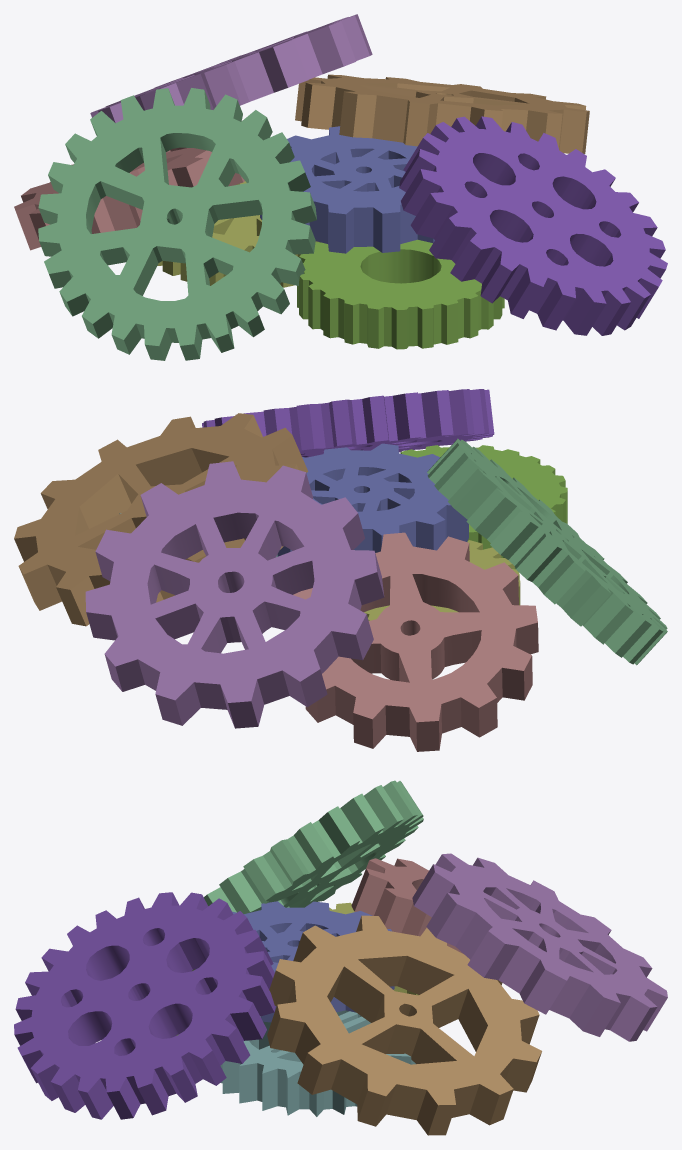
The model's file is Scrap Variations.fbx.
3 views of the same model, one above another, from view 1: azimuth 30°, elevation 25°; view 2: azimuth 150°, elevation 25°; view 3: azimuth 270°, elevation 25° (orthographic). The views are drawn at different scales.
Visible parts, largest first — view 1: Gear_Pile; view 2: Gear_Pile; view 3: Gear_Pile.
Part boxes in pixels (x1,y1,x2,y2): Gear_Pile: (14, 14, 667, 360); Gear_Pile: (14, 389, 667, 751); Gear_Pile: (14, 780, 667, 1135).
Size of the model in its own units: 14.88 by 5.23 by 15.8.
